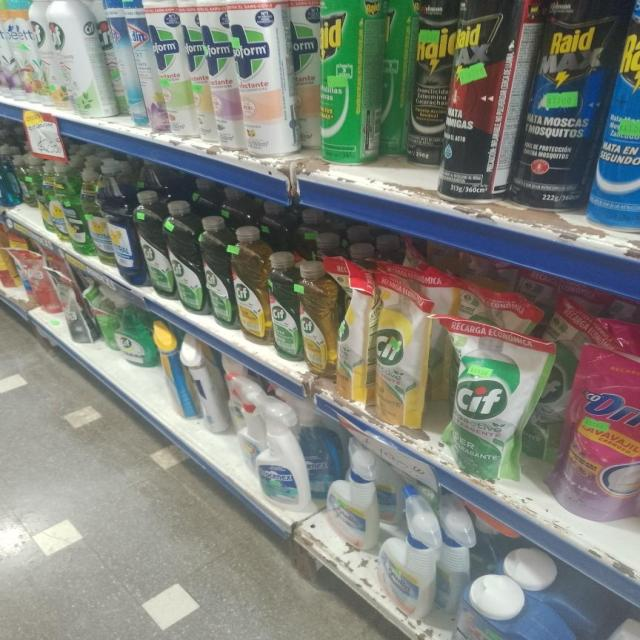cif_conc_bot_amarilla: (300, 256, 338, 381), (234, 225, 268, 346)
cif_conc_botella_verde: (202, 216, 232, 330), (270, 252, 299, 362)
cif_conc_sachet_amarillo: (373, 266, 426, 428)
cif_conc_sachet_verde: (451, 336, 522, 481)
